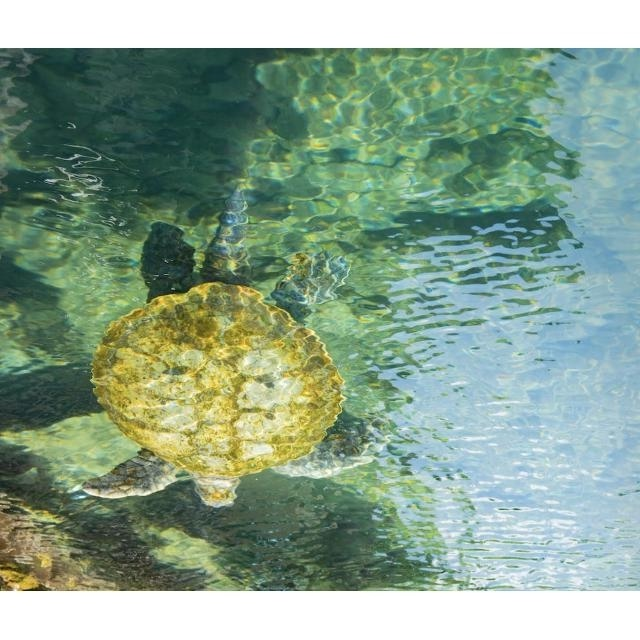turtle: (82, 180, 388, 508)
